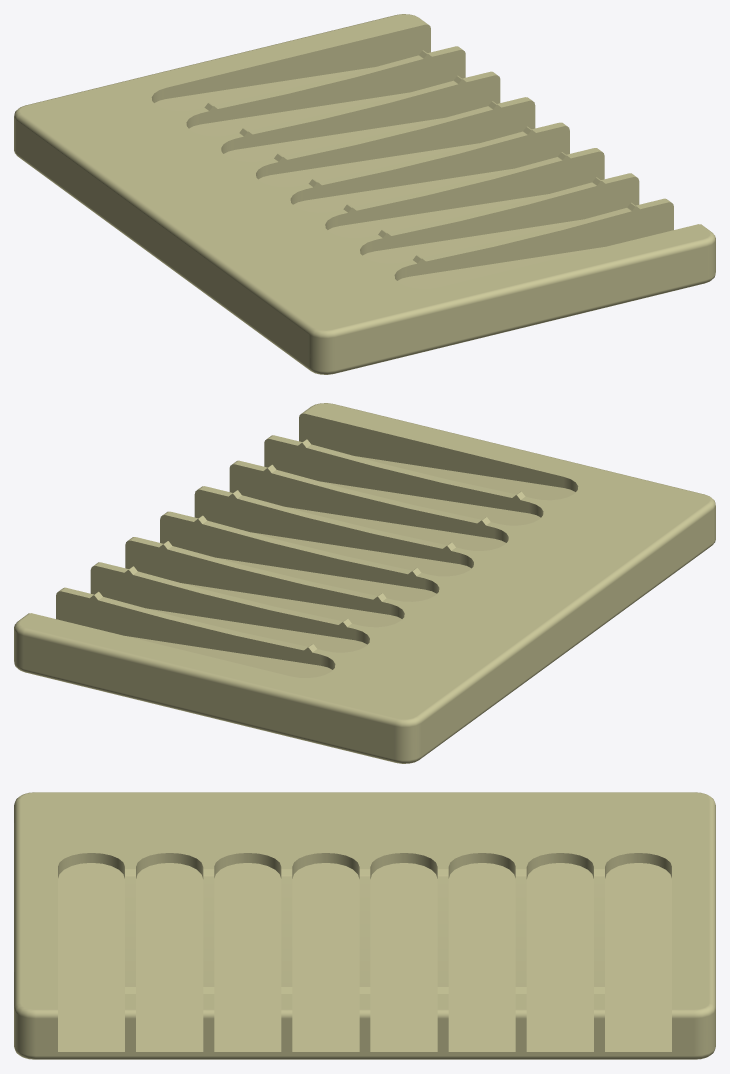
The model's file is SoapHolder.glb.
The picture shows the model from 3 angles, top to bottom: view 1: azimuth 30°, elevation 25°; view 2: azimuth 150°, elevation 25°; view 3: azimuth 270°, elevation 25°; orthographic projection. The views are drawn at different scales.
Parts seen in each view (by area): view 1: Solid1; view 2: Solid1; view 3: Solid1.
Part boxes in pixels (box(x1,y1,x2,y2)): Solid1: box(14, 14, 715, 374); Solid1: box(14, 403, 715, 763); Solid1: box(14, 792, 715, 1059).
Bounding box in the file's own units: 0.0762 × 0.00865 × 0.1016.
